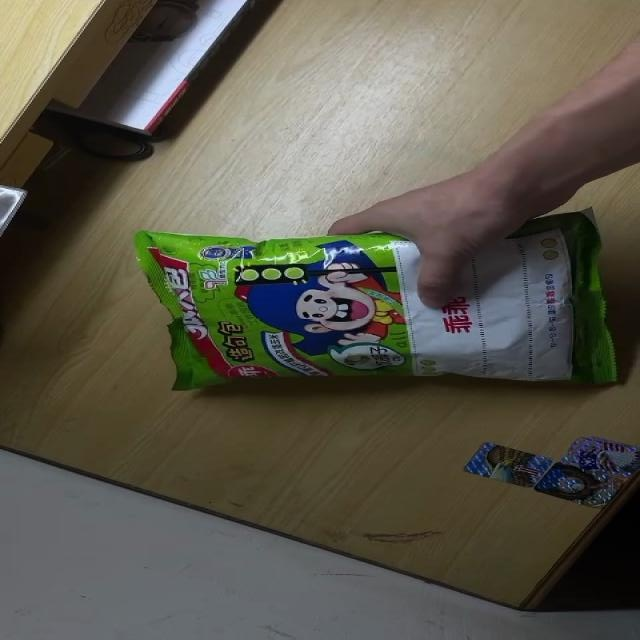Good-Luck: (129, 208, 621, 393)
